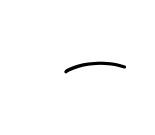minus: (62, 61, 126, 73)
